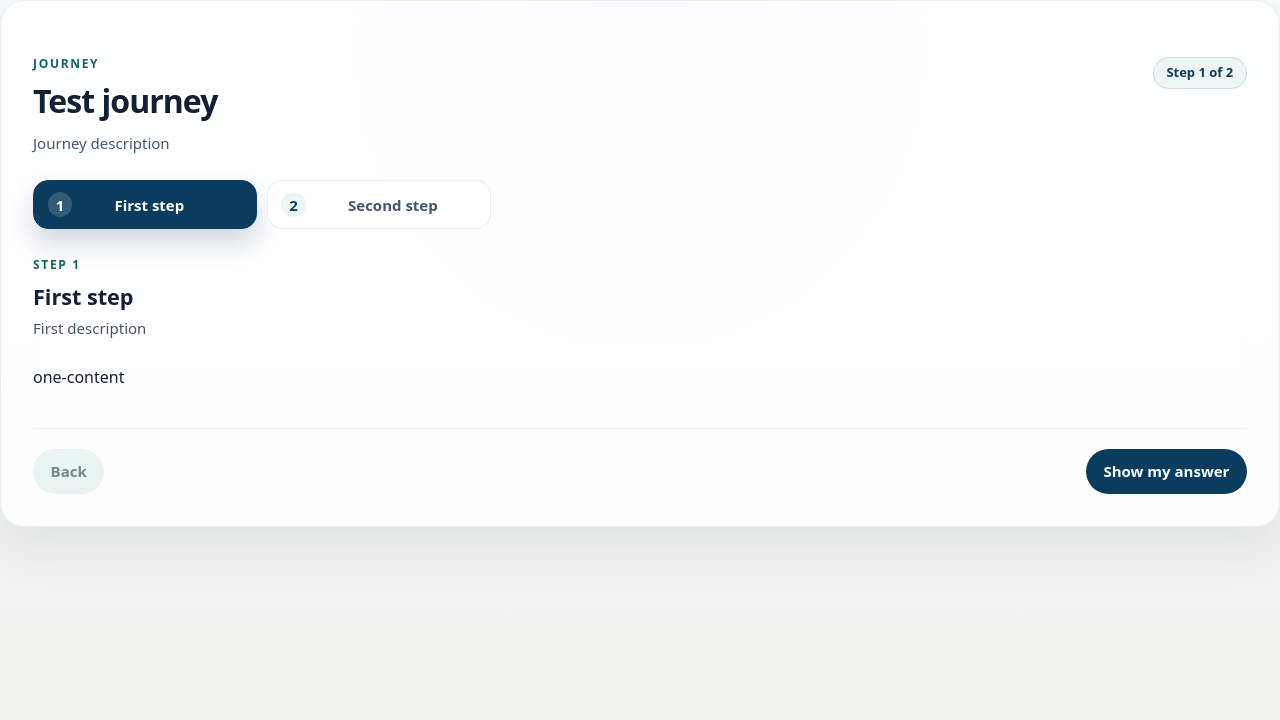
journey module › renders visible steps and advances through the journey
Expected: the text "one-content" is shown, [33,366,124,388]
Click the button "Show my answer" at point(1166, 471), box [1086,448,1247,494]
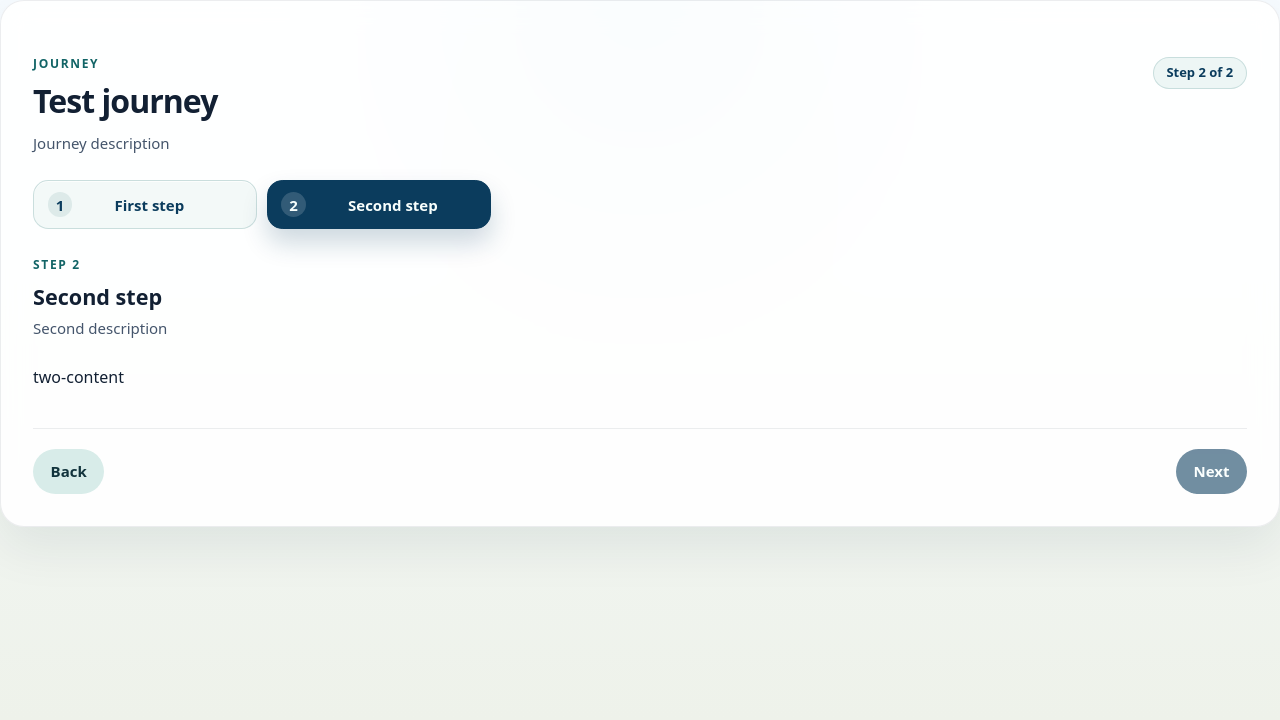
Expected: the text "two-content" is shown, [33,366,124,388]
